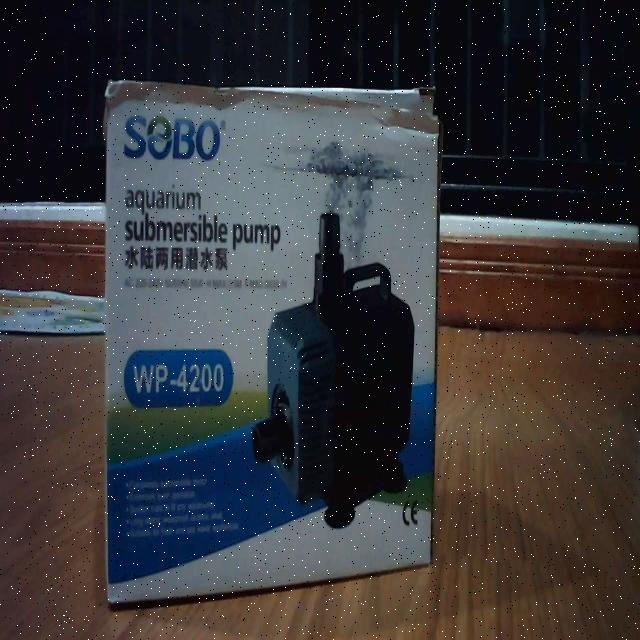SOBO_WP_4200: (93, 50, 444, 612)
